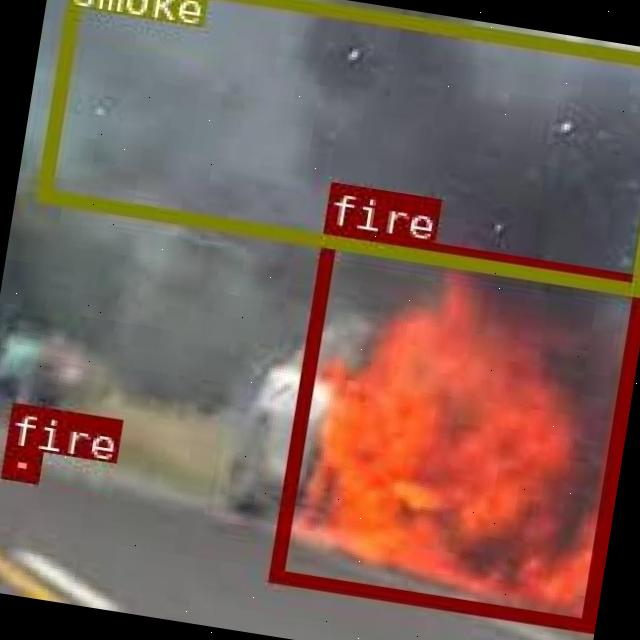fire: (266, 225, 640, 628), (2, 444, 41, 480)
smoke: (35, 0, 640, 296)
